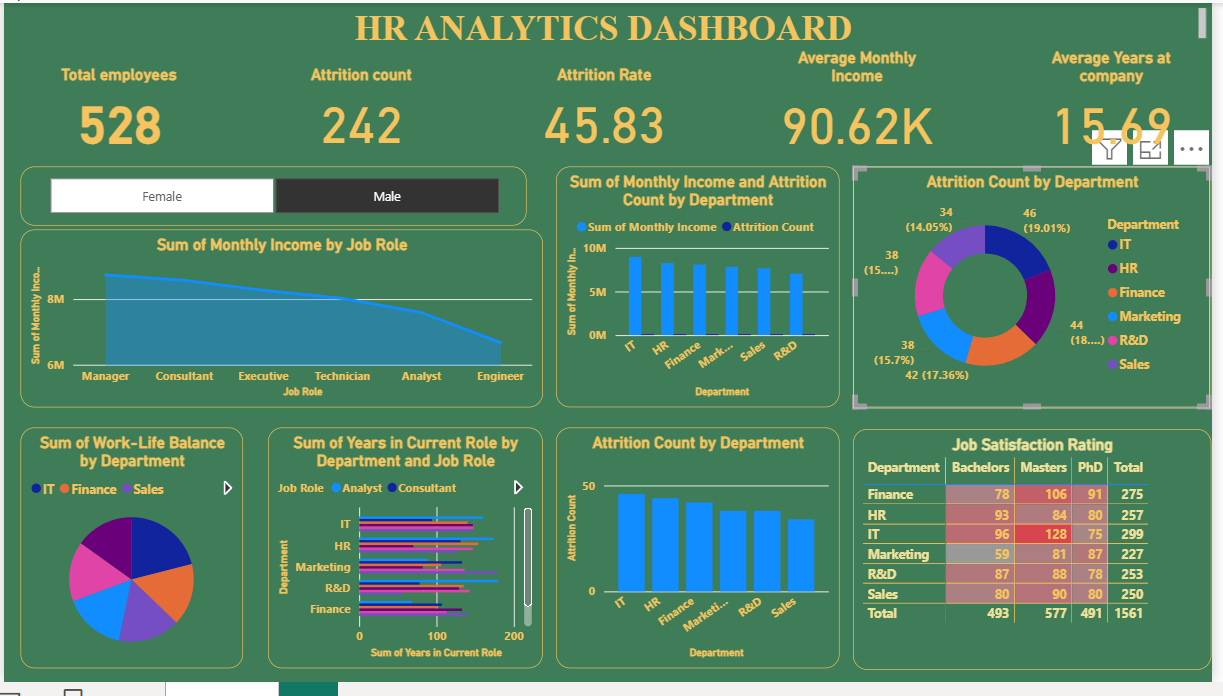

The page's visual inventory and layout, read from the dashboard file:
{"tool":"powerbi","page":{"name":"Page 1","canvas":[1280,720],"ordinal":0},"visuals":[{"type":"card","title":"Total employees","fields":{"Values":["HR_Analytics_Dataset.Total Employees"]},"box":[39.7,64.2,164.4,94.5],"z":0,"group":"g1"},{"type":"card","title":"Attrition count","fields":{"Values":["HR_Analytics_Dataset.Attrition Count"]},"box":[295.8,64.2,166.3,94.5],"z":1000,"group":"g1"},{"type":"card","title":"Attrition Rate","fields":{"Values":["HR_Analytics_Dataset.Attrition Rate (%)"]},"box":[553.7,64.2,166.3,94.5],"z":2000,"group":"g1"},{"type":"card","title":"Average Monthly Income","fields":{"Values":["HR_Analytics_Dataset.Avg Monthly Income"]},"box":[811.7,47.2,187.1,111.5],"z":3000,"group":"g1"},{"type":"card","title":"Average Years at company","fields":{"Values":["HR_Analytics_Dataset.Avg Years at Company"]},"box":[1090.4,47.2,166.3,111.5],"z":4000,"group":"g1"},{"type":"clusteredColumnChart","fields":{"Category":["HR_Analytics_Dataset.Department"],"Y":["Sum(HR_Analytics_Dataset.Monthly Income)","HR_Analytics_Dataset.Attrition Count"]},"box":[585.8,173.9,300.5,255.1],"z":5000},{"type":"donutChart","fields":{"Y":["HR_Analytics_Dataset.Attrition Count"],"Category":["HR_Analytics_Dataset.Department"]},"box":[899.5,173.9,379.8,255.1],"z":6000},{"type":"columnChart","fields":{"Category":["HR_Analytics_Dataset.Department"],"Y":["HR_Analytics_Dataset.Attrition Count"]},"box":[585.8,449.8,300.5,255.1],"z":7000},{"type":"pivotTable","title":"Job Satisfaction Rating","fields":{"Values":["Sum(HR_Analytics_Dataset.Job Satisfaction)"],"Rows":["HR_Analytics_Dataset.Department"],"Columns":["HR_Analytics_Dataset.Education Level"]},"box":[899.5,451.7,379.8,255.1],"z":8000},{"type":"pieChart","fields":{"Category":["HR_Analytics_Dataset.Department"],"Y":["Sum(HR_Analytics_Dataset.Work-Life Balance)"]},"box":[17,449.8,236.2,255.1],"z":9000},{"type":"clusteredBarChart","fields":{"Y":["Sum(HR_Analytics_Dataset.Years in Current Role)"],"Category":["HR_Analytics_Dataset.Department"],"Series":["HR_Analytics_Dataset.Job Role"]},"box":[279.7,449.8,291,255.1],"z":10000},{"type":"areaChart","fields":{"Category":["HR_Analytics_Dataset.Job Role"],"Y":["Sum(HR_Analytics_Dataset.Monthly Income)"]},"box":[17,240,553.7,189],"z":11000},{"type":"slicer","fields":{"Values":["HR_Analytics_Dataset.Gender"]},"box":[17,173.9,536.7,62.4],"z":12000},{"type":"group","id":"g1","title":"Group 1","box":[39.7,47.2,1217,111.5],"z":12001},{"type":"textbox","box":[0,0,1279.4,47.2],"z":12002}]}

Visuals, with their boxes in screenshot pixels (x1, y1, x2, y2), scaled from the page's 1280x720 canvas onto the 1223x696 screenshot:
"Total employees" card: 38 62 195 153
"Attrition count" card: 283 62 442 153
"Attrition Rate" card: 529 62 688 153
"Average Monthly Income" card: 776 46 954 153
"Average Years at company" card: 1042 46 1201 153
clusteredColumnChart - HR_Analytics_Dataset.Department x Sum(HR_Analytics_Dataset.Monthly Income): 560 168 847 415
donutChart - HR_Analytics_Dataset.Attrition Count x HR_Analytics_Dataset.Department: 859 168 1222 415
columnChart - HR_Analytics_Dataset.Department x HR_Analytics_Dataset.Attrition Count: 560 435 847 681
"Job Satisfaction Rating" pivotTable: 859 437 1222 683
pieChart - HR_Analytics_Dataset.Department x Sum(HR_Analytics_Dataset.Work-Life Balance): 16 435 242 681
clusteredBarChart - Sum(HR_Analytics_Dataset.Years in Current Role) x HR_Analytics_Dataset.Department: 267 435 545 681
areaChart - HR_Analytics_Dataset.Job Role x Sum(HR_Analytics_Dataset.Monthly Income): 16 232 545 415
slicer - HR_Analytics_Dataset.Gender: 16 168 529 228
"Group 1" group: 38 46 1201 153
textbox: 0 0 1222 46
